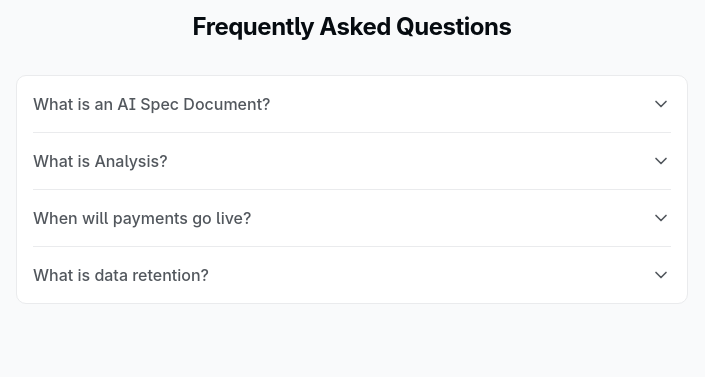
Test case: PricingFaq › expands item and shows answer text on click
Click the button "What is an AI Spec Document?": (152, 104) [33, 76, 671, 132]
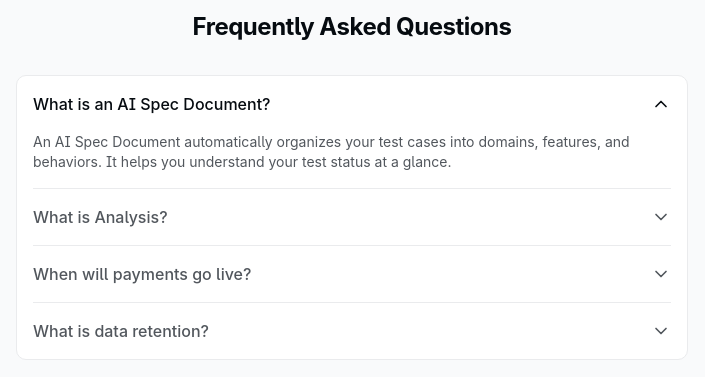
Expected: the button "What is an AI Spec Document?" is expanded, [33, 76, 671, 132]
Expected: the text "automatically organizes your test cases" is shown, [33, 133, 630, 170]
